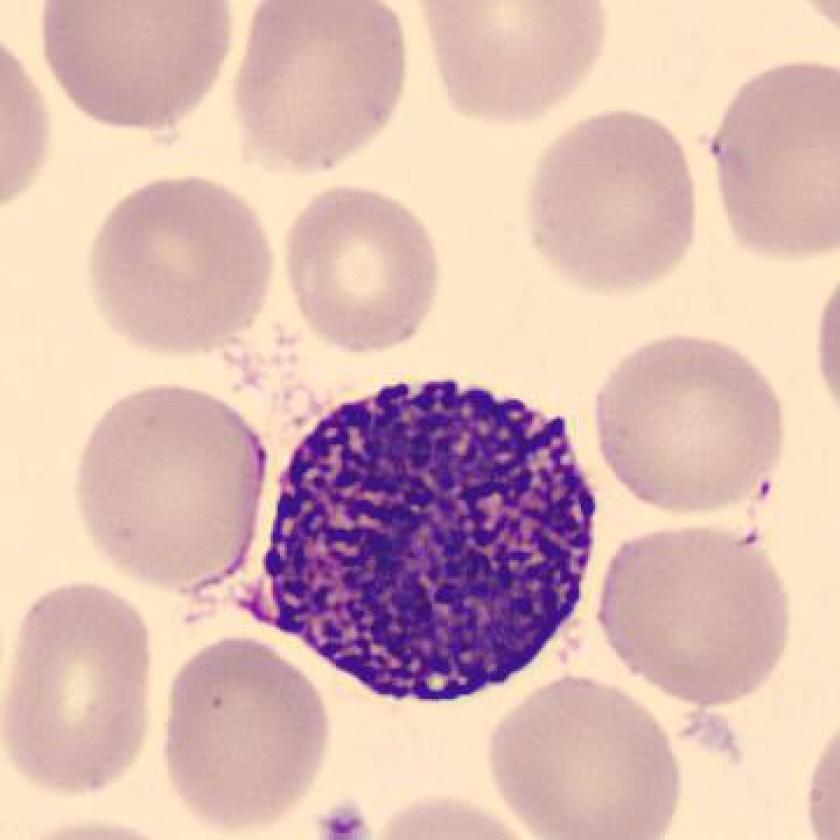basophil: (246, 351, 601, 709)
